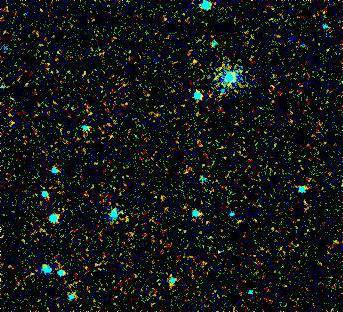star: (178, 47, 208, 77)
